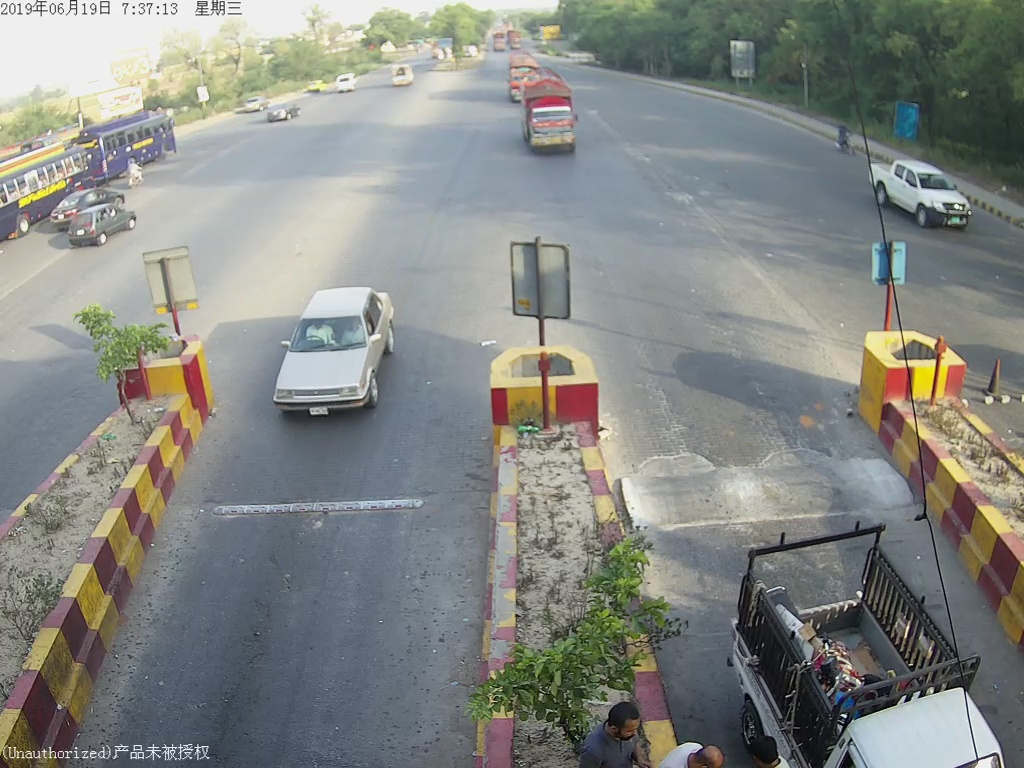Cat-1: (272, 284, 400, 416), (871, 153, 974, 230)
Cat-4: (517, 66, 585, 158)
